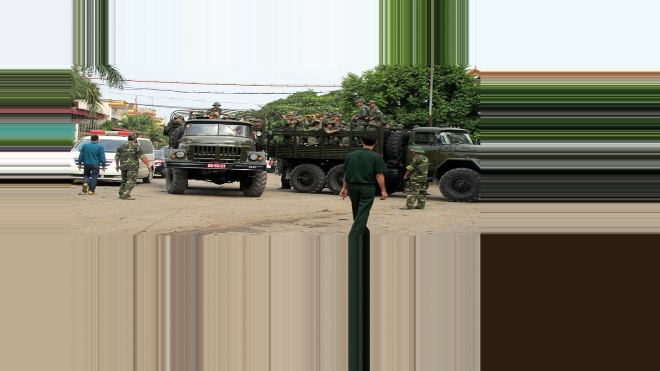plate: (206, 161, 226, 169)
